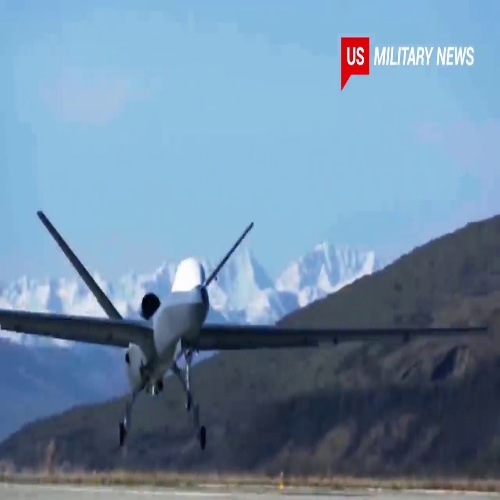uav612: (4, 209, 489, 452)
